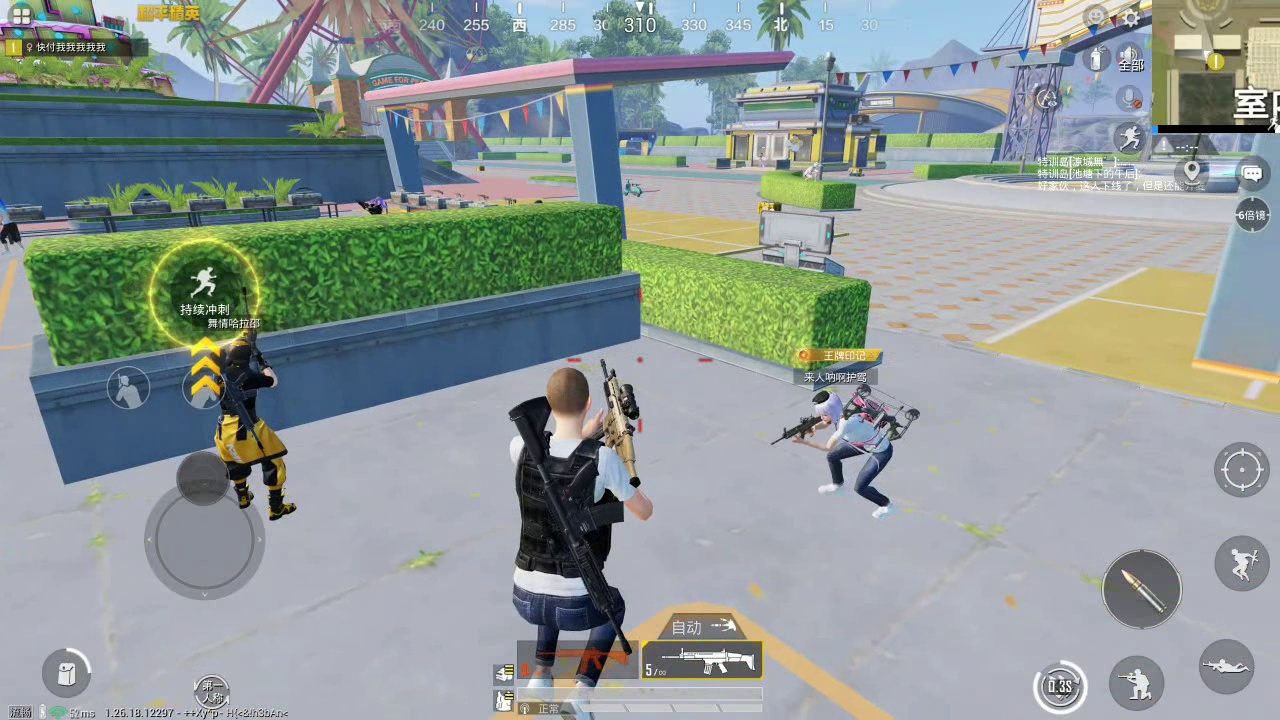enemy: (201, 325, 300, 521), (799, 389, 884, 515), (804, 161, 822, 181)
